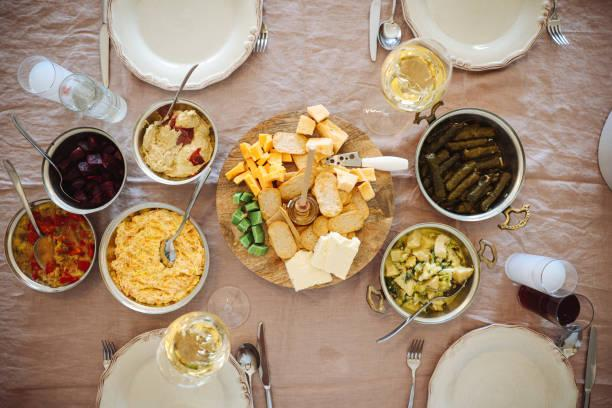Braised Crucian Carp: (216, 109, 390, 291), (416, 107, 526, 222), (97, 201, 207, 314), (379, 222, 478, 324)
